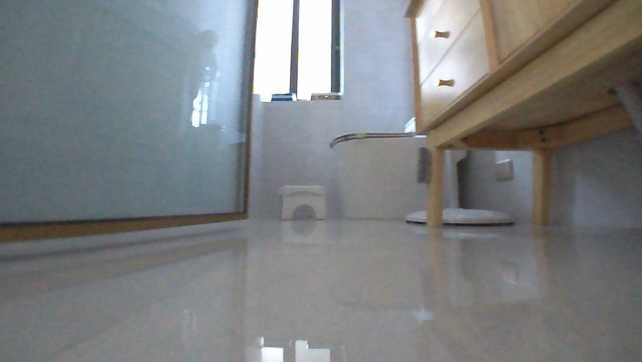chair_base: (402, 195, 514, 230)
toilet: (328, 105, 474, 217)
washstand: (401, 0, 640, 236)
